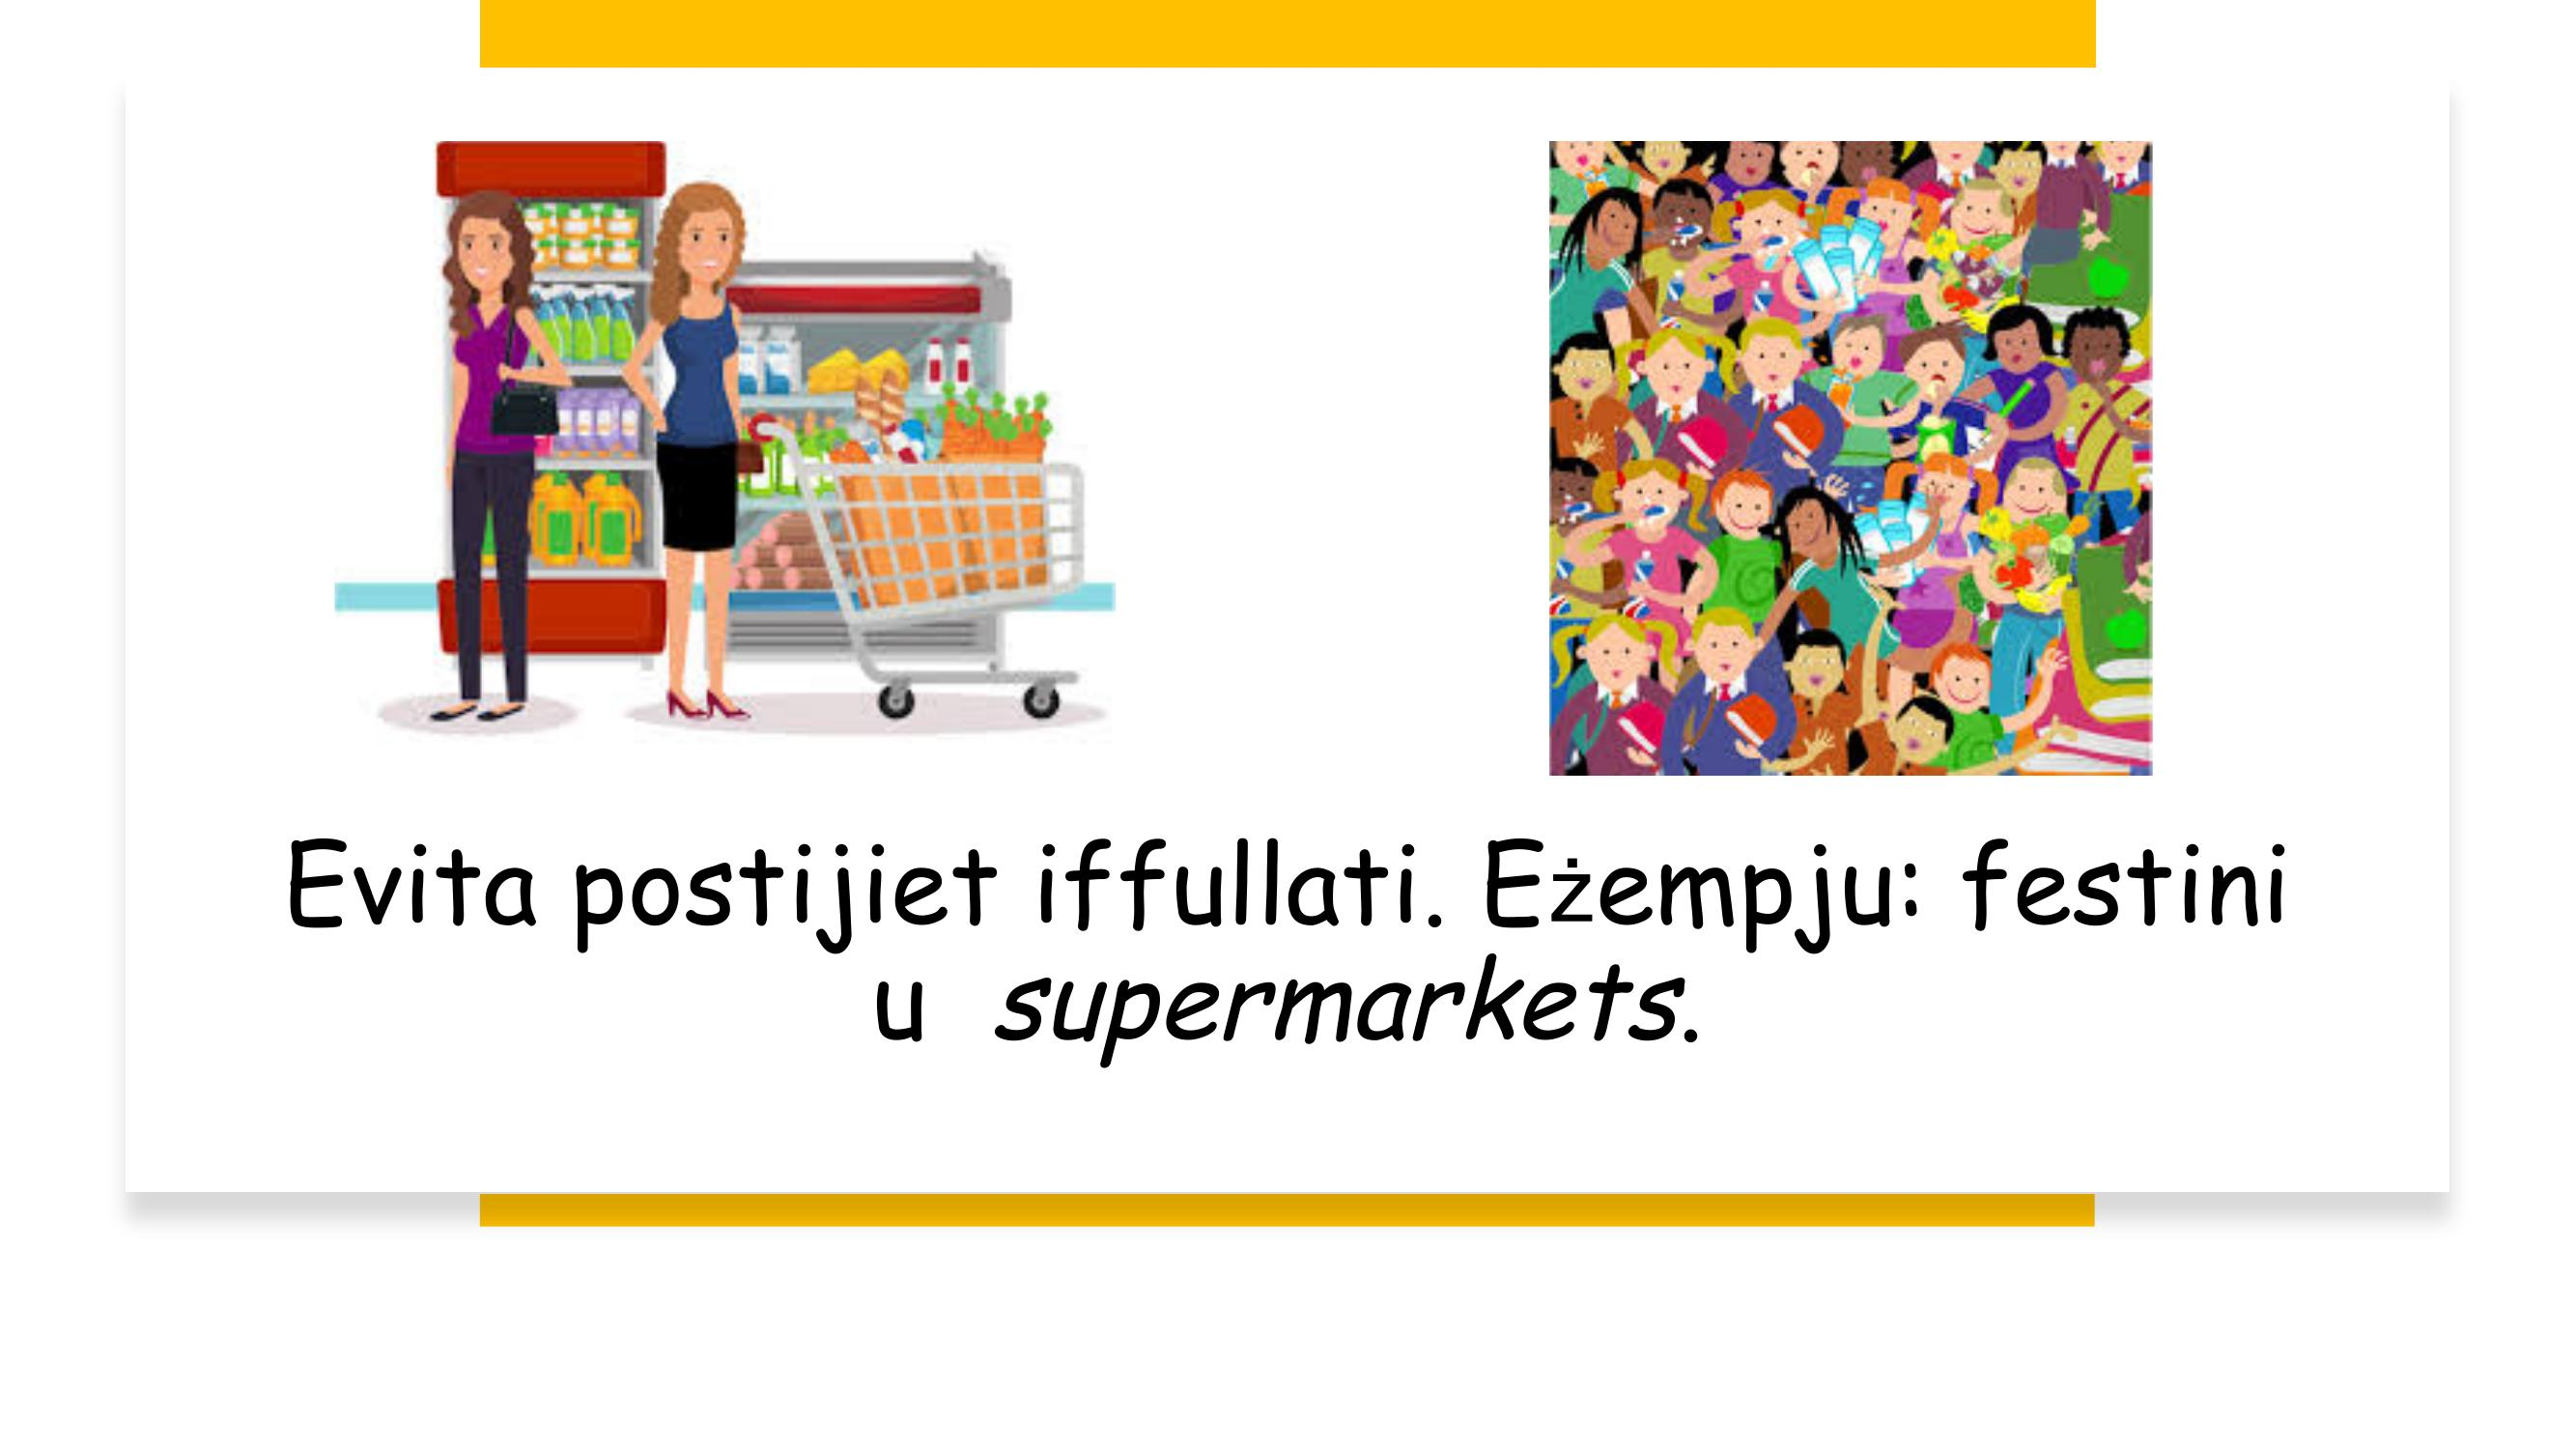text: (257, 789, 2314, 1102)
